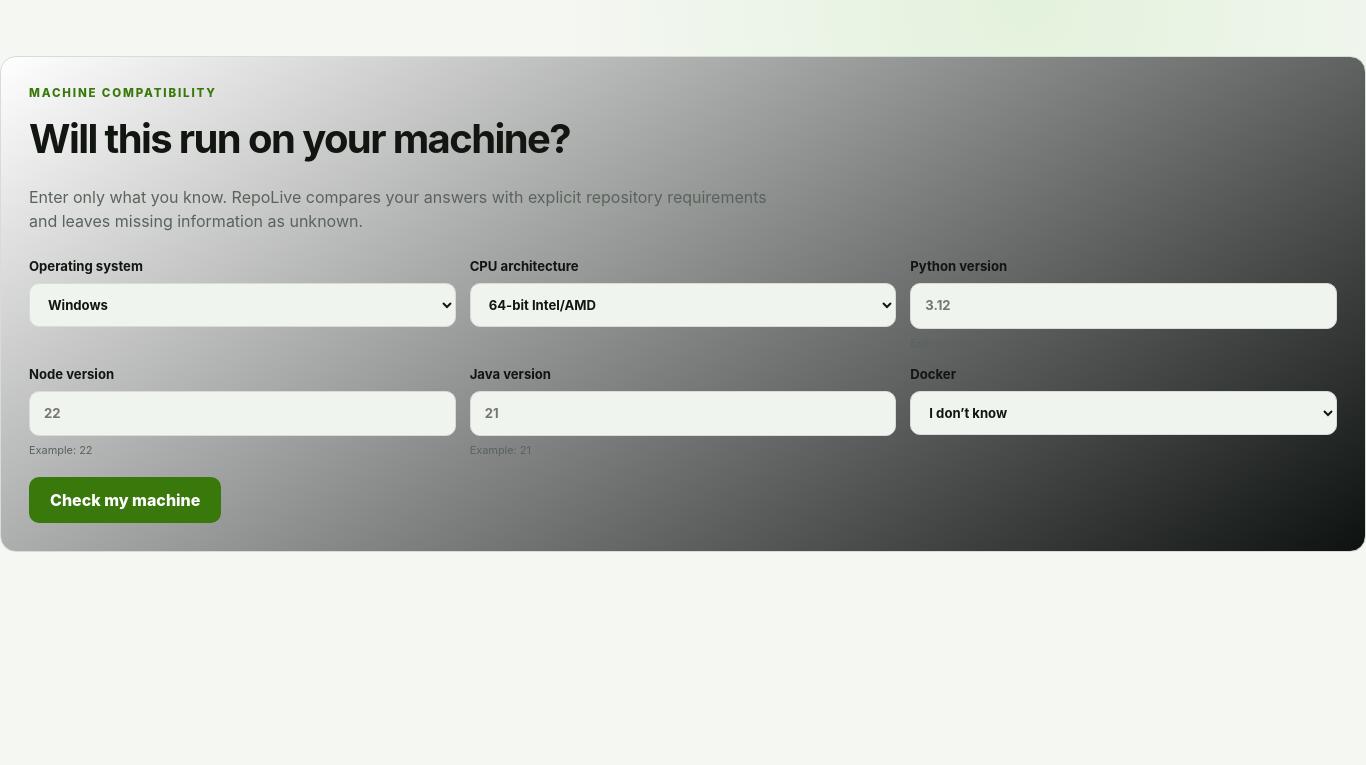
Test: submits machine details and explains an incompatible result
Type "3.8" into the field with placeholder "3.12" at coordinates (1124, 306), box [910, 283, 1337, 329]
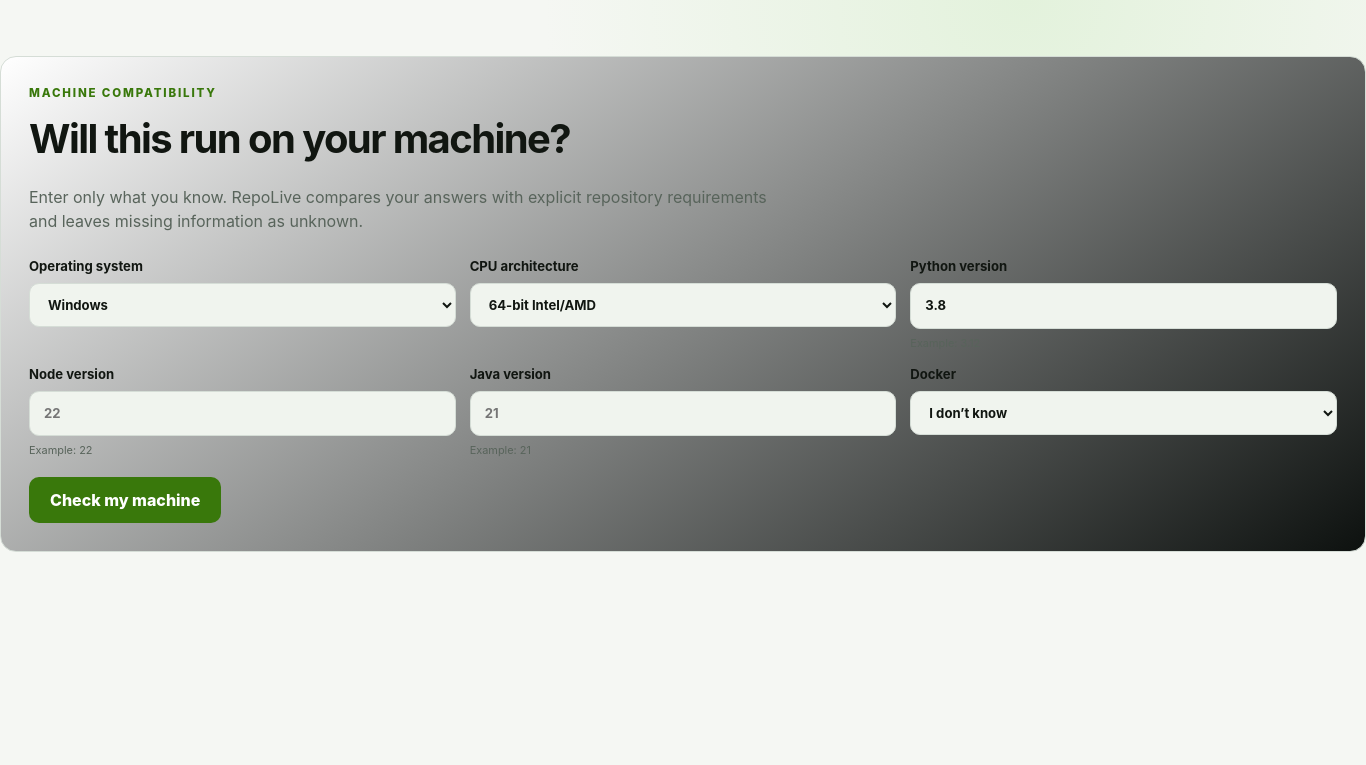
Click the button "Check my machine" at coordinates (125, 500), box [29, 477, 221, 523]
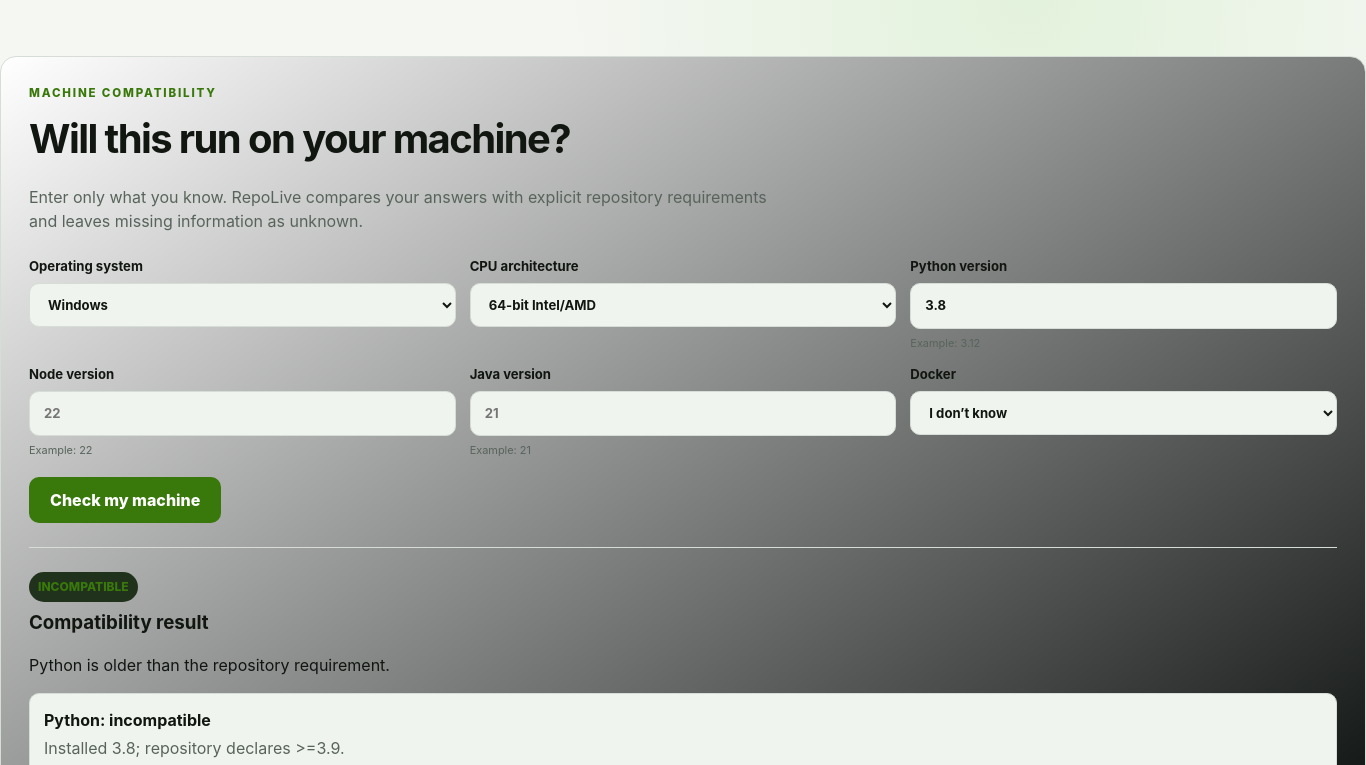
Result: the heading "Compatibility result" is shown at [29, 611, 209, 634]
Result: the text "incompatible" is shown at [29, 572, 138, 602]
